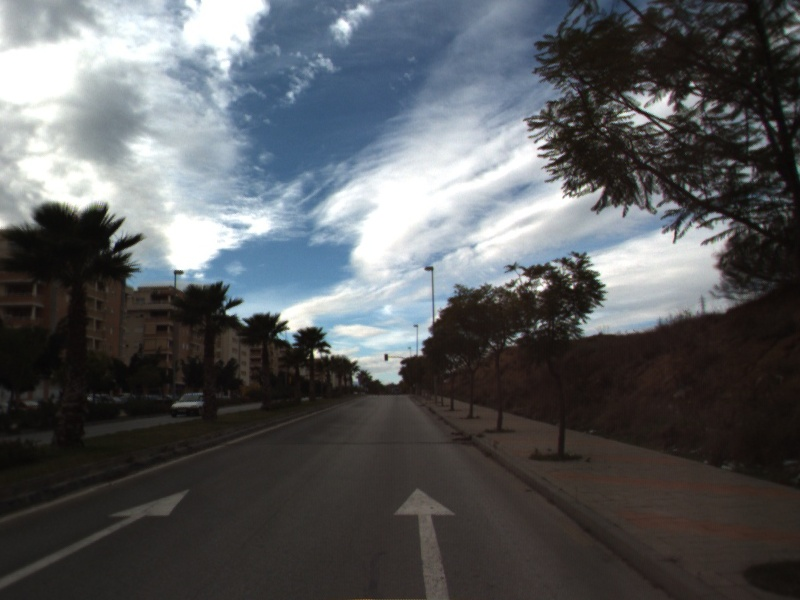STRAIGHT: (1, 487, 193, 591), (391, 485, 458, 600)
